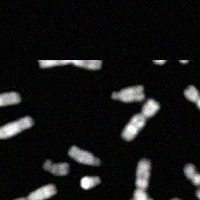chromosome: (122, 99, 159, 140), (0, 115, 32, 147), (13, 182, 57, 200), (134, 158, 151, 200), (67, 145, 100, 166), (38, 59, 101, 69), (110, 84, 143, 102), (183, 85, 200, 118), (0, 90, 20, 113), (42, 159, 68, 176), (183, 163, 200, 186), (80, 174, 100, 189), (196, 187, 200, 200), (163, 198, 183, 200), (127, 199, 154, 200)
